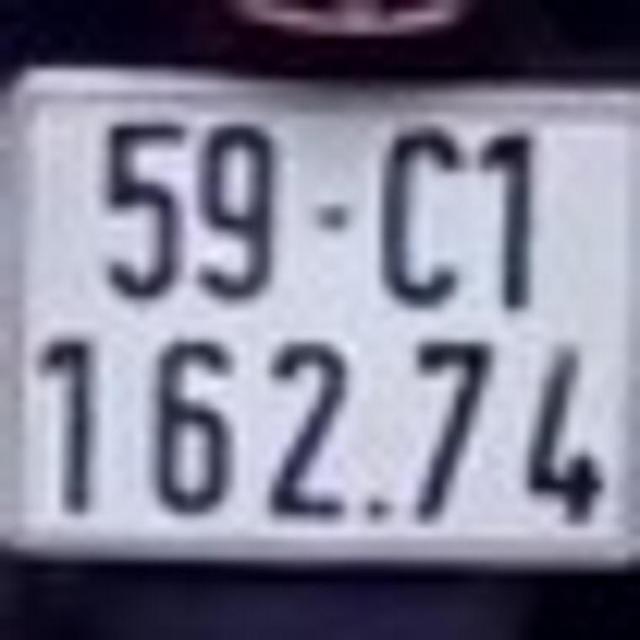1: (476, 133, 534, 310), (43, 336, 91, 513)
2: (268, 341, 348, 518)
4: (524, 343, 608, 528)
5: (106, 119, 185, 298)
6: (158, 337, 228, 513)
7: (418, 340, 490, 524)
9: (198, 118, 272, 304)
C: (382, 125, 464, 308)
